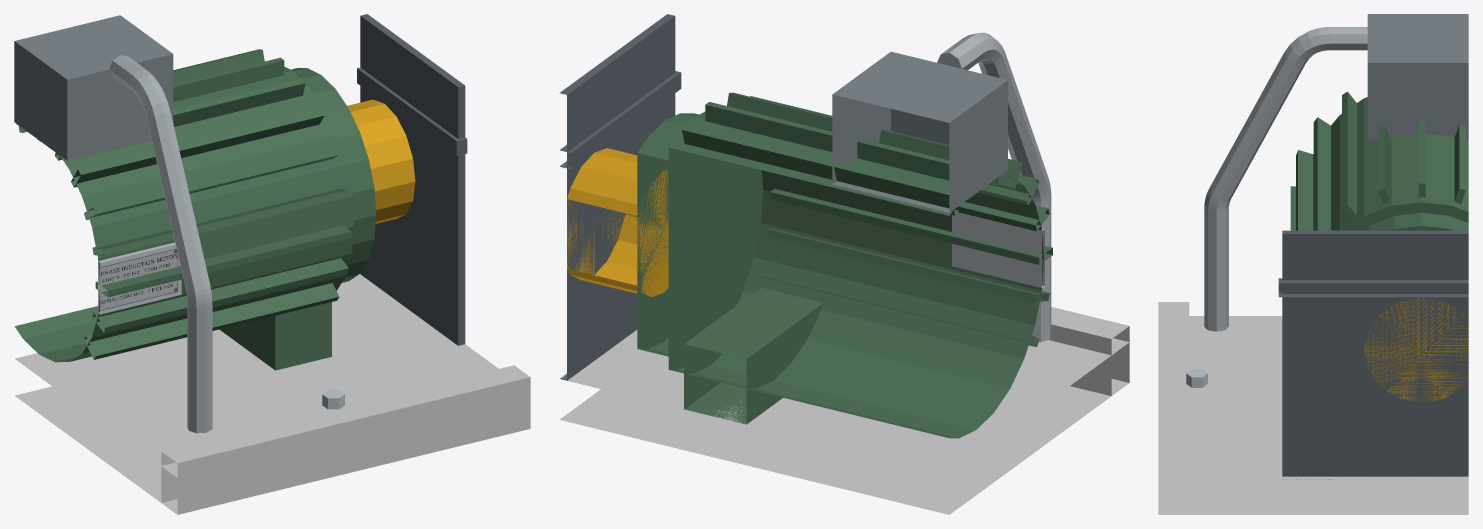
The model's file is cell_7.obj.
3 views of the same model, side by side, from view 1: azimuth 30°, elevation 25°; view 2: azimuth 150°, elevation 25°; view 3: azimuth 270°, elevation 25° (orthographic). The views are drawn at different scales.
Bounding box in the file's own units: 1 × 0.992 × 0.8.
